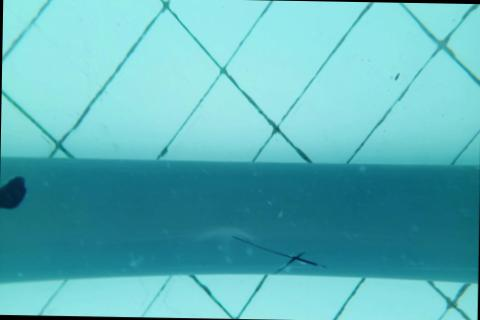kebocoran: (0, 175, 27, 212)
keretakan: (230, 234, 326, 276)
